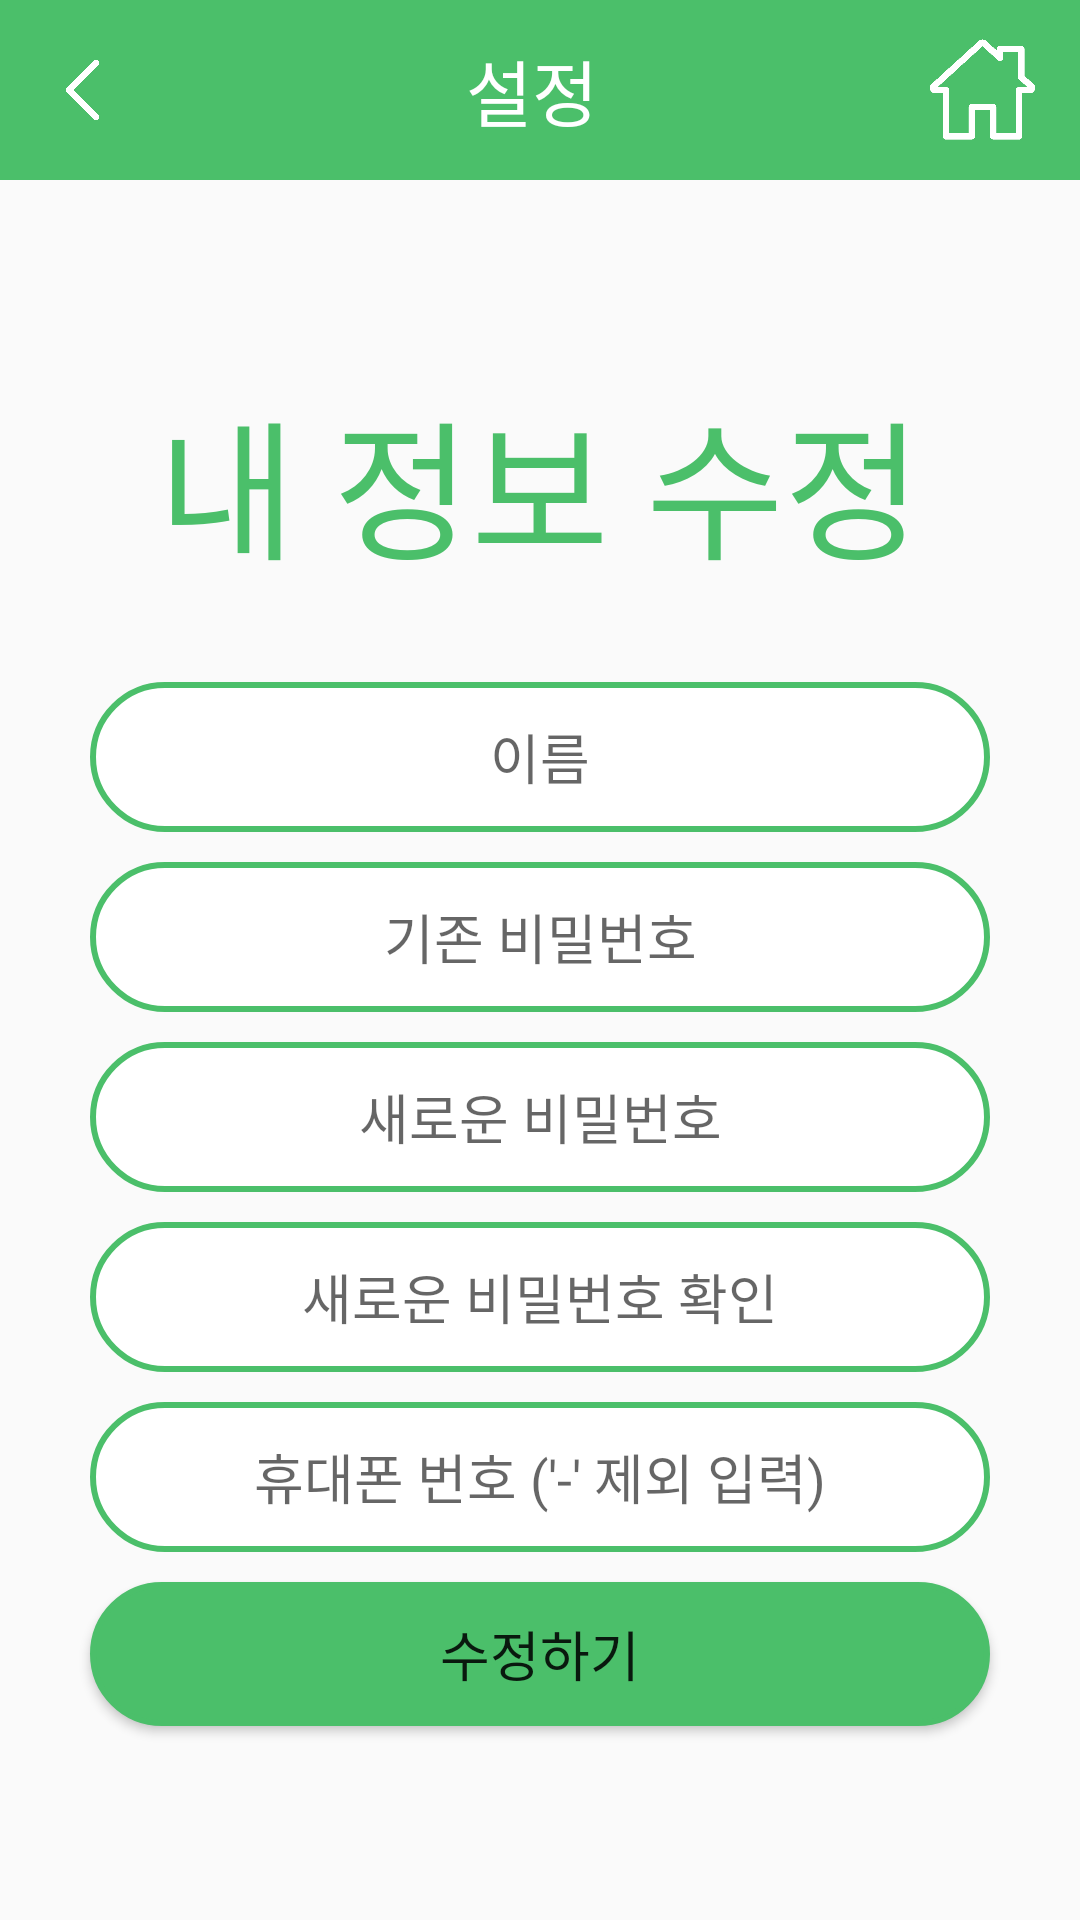

Screen size 1080 x 1920. Icon name, then its box in pixels as (x1, y1, x2, y2):
back: (66, 60, 99, 120)
home: (930, 39, 1035, 140)
